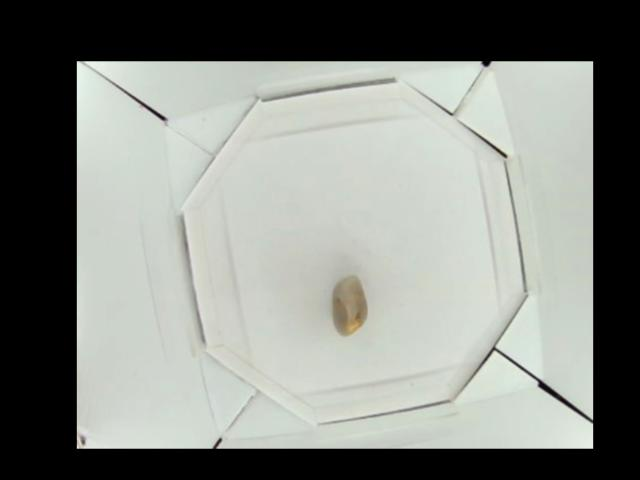Pebble: (332, 275, 367, 340)
